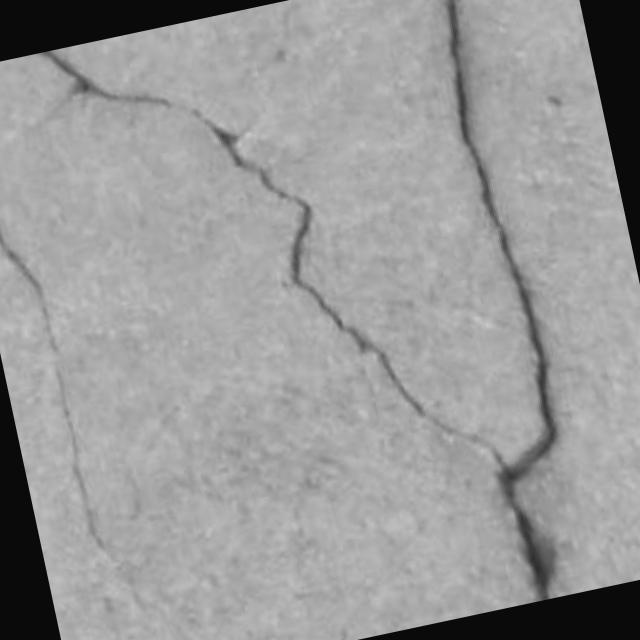crack: (36, 0, 557, 600), (36, 50, 500, 463), (446, 0, 558, 600), (446, 0, 558, 481), (0, 220, 113, 561), (0, 221, 109, 554)
